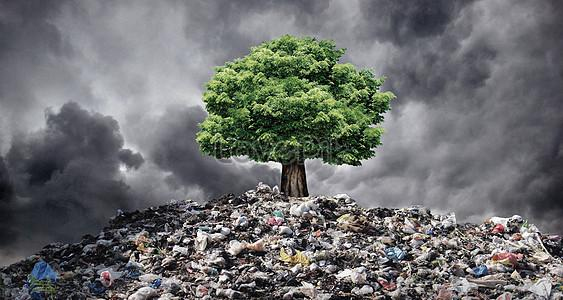garbage: (0, 185, 563, 300)
